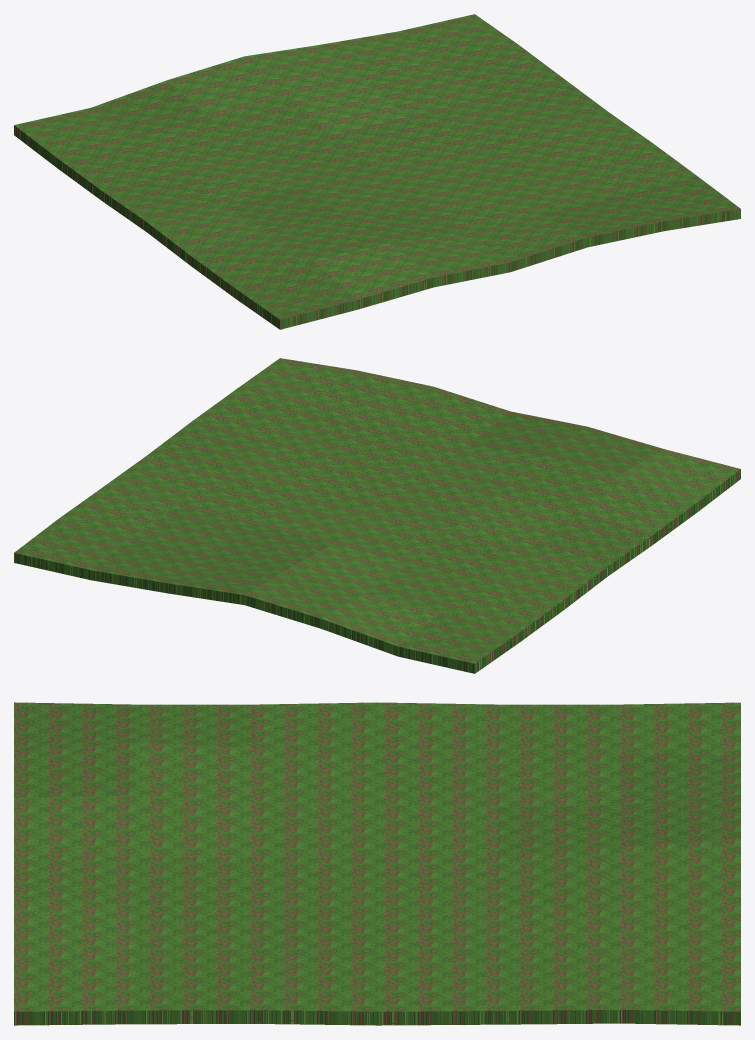
The model's file is rv_terrain_01_lod3.gltf.
3 renders of one model, top to bottom at view 1: azimuth 30°, elevation 25°; view 2: azimuth 150°, elevation 25°; view 3: azimuth 270°, elevation 25°, orthographic. The views are drawn at different scales.
Visible parts, largest first — view 1: RV_Terrain_01_lod3; view 2: RV_Terrain_01_lod3; view 3: RV_Terrain_01_lod3.
Part boxes in pixels (x1,y1,x2,y2): RV_Terrain_01_lod3: [14, 14, 740, 329]; RV_Terrain_01_lod3: [14, 358, 740, 673]; RV_Terrain_01_lod3: [14, 702, 740, 1025].
Size of the model in its own units: 72 by 3.59 by 72.
Materials: 2 (1 with a texture image).
